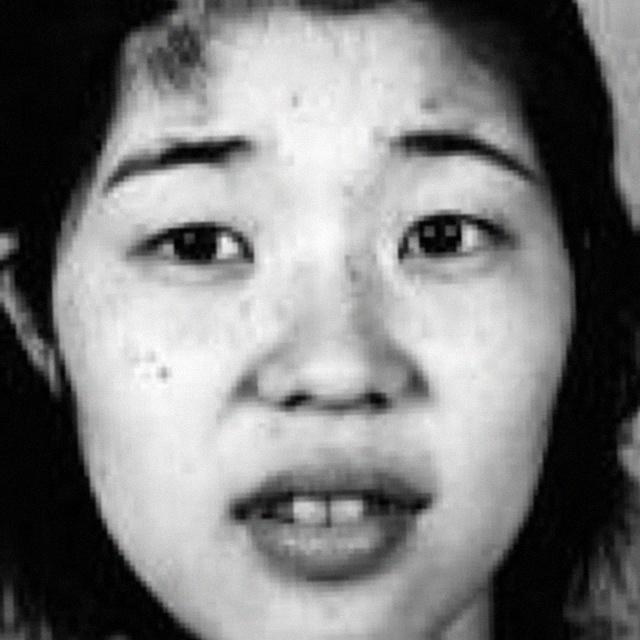fear: (92, 38, 545, 628)
